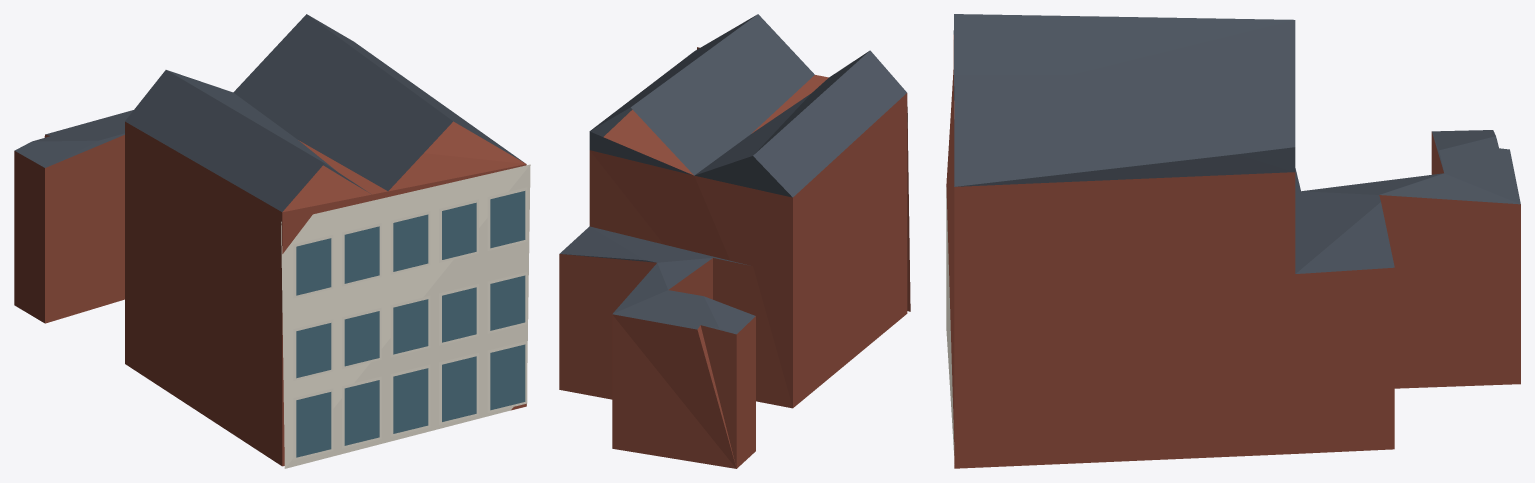
Rendered from huis-de-pinto.lod2.glb.
The picture shows the model from 3 angles, left to right: view 1: azimuth 30°, elevation 25°; view 2: azimuth 150°, elevation 25°; view 3: azimuth 270°, elevation 25°; orthographic projection. The views are drawn at different scales.
Parts seen in each view (by area): view 1: lod2; view 2: lod2; view 3: lod2.
Boxes of the visible parts, x1,y1,x2,y2 form: lod2: (14,14,530,468); lod2: (559,14,910,468); lod2: (946,14,1520,468).
Size of the model in its own units: 14.06 by 14.5 by 21.71.
